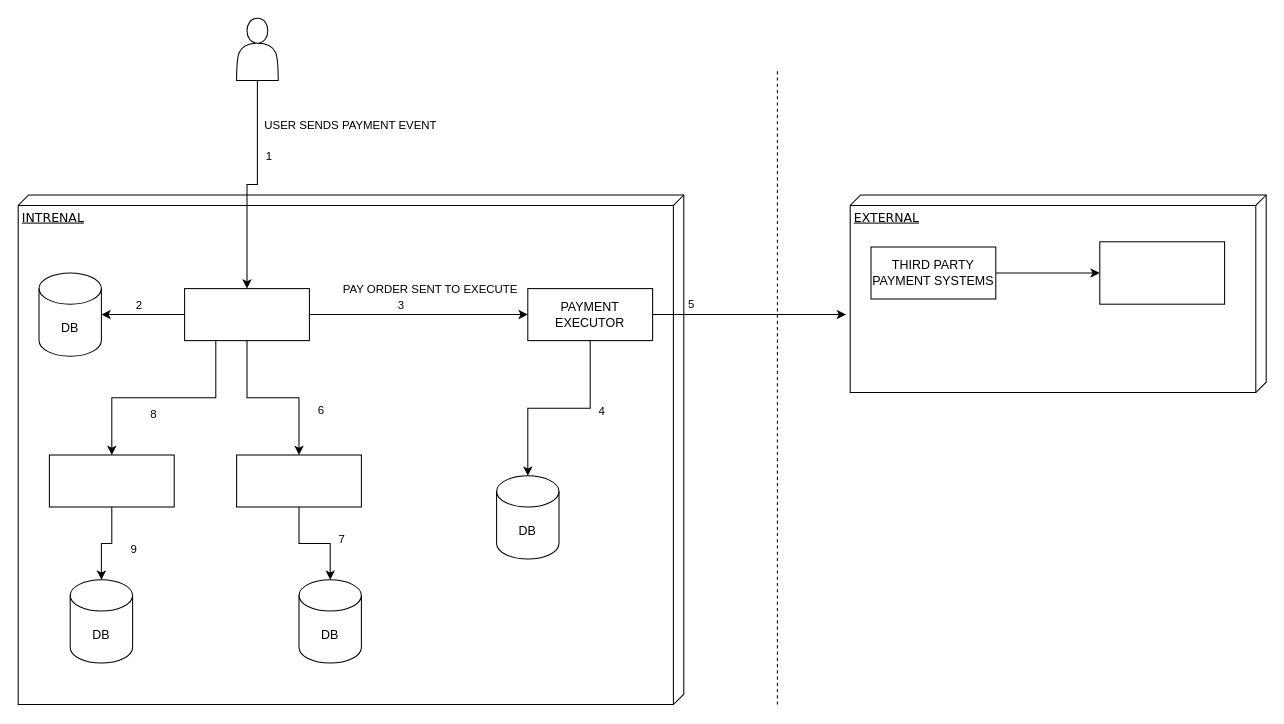
This 1284x724 diagram has some shape labels left out. The centre of each missing label's shape, as x and y in pixels:
"CARD PROCESSORS" goes at point 1162,272.
"LEDGER SYSTEMS" goes at point 111,480.
"PAYMENT SERVICE" goes at point 246,314.
"WALLET SYSTEM" goes at point 298,480.
